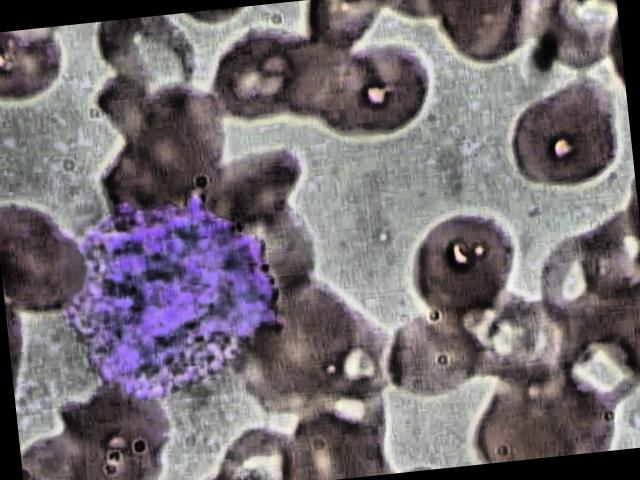RBC: (462, 362, 630, 466), (489, 72, 622, 192), (396, 202, 528, 322), (0, 190, 103, 332), (242, 20, 358, 130), (198, 18, 314, 128), (462, 286, 578, 395), (332, 29, 448, 138), (296, 33, 412, 142), (374, 299, 489, 408), (524, 218, 640, 326), (130, 72, 228, 190), (186, 136, 310, 228), (86, 13, 206, 108), (542, 301, 640, 410), (412, 0, 546, 73), (280, 396, 390, 480), (195, 405, 305, 480), (0, 25, 86, 111)
WBC: (38, 188, 292, 409)
